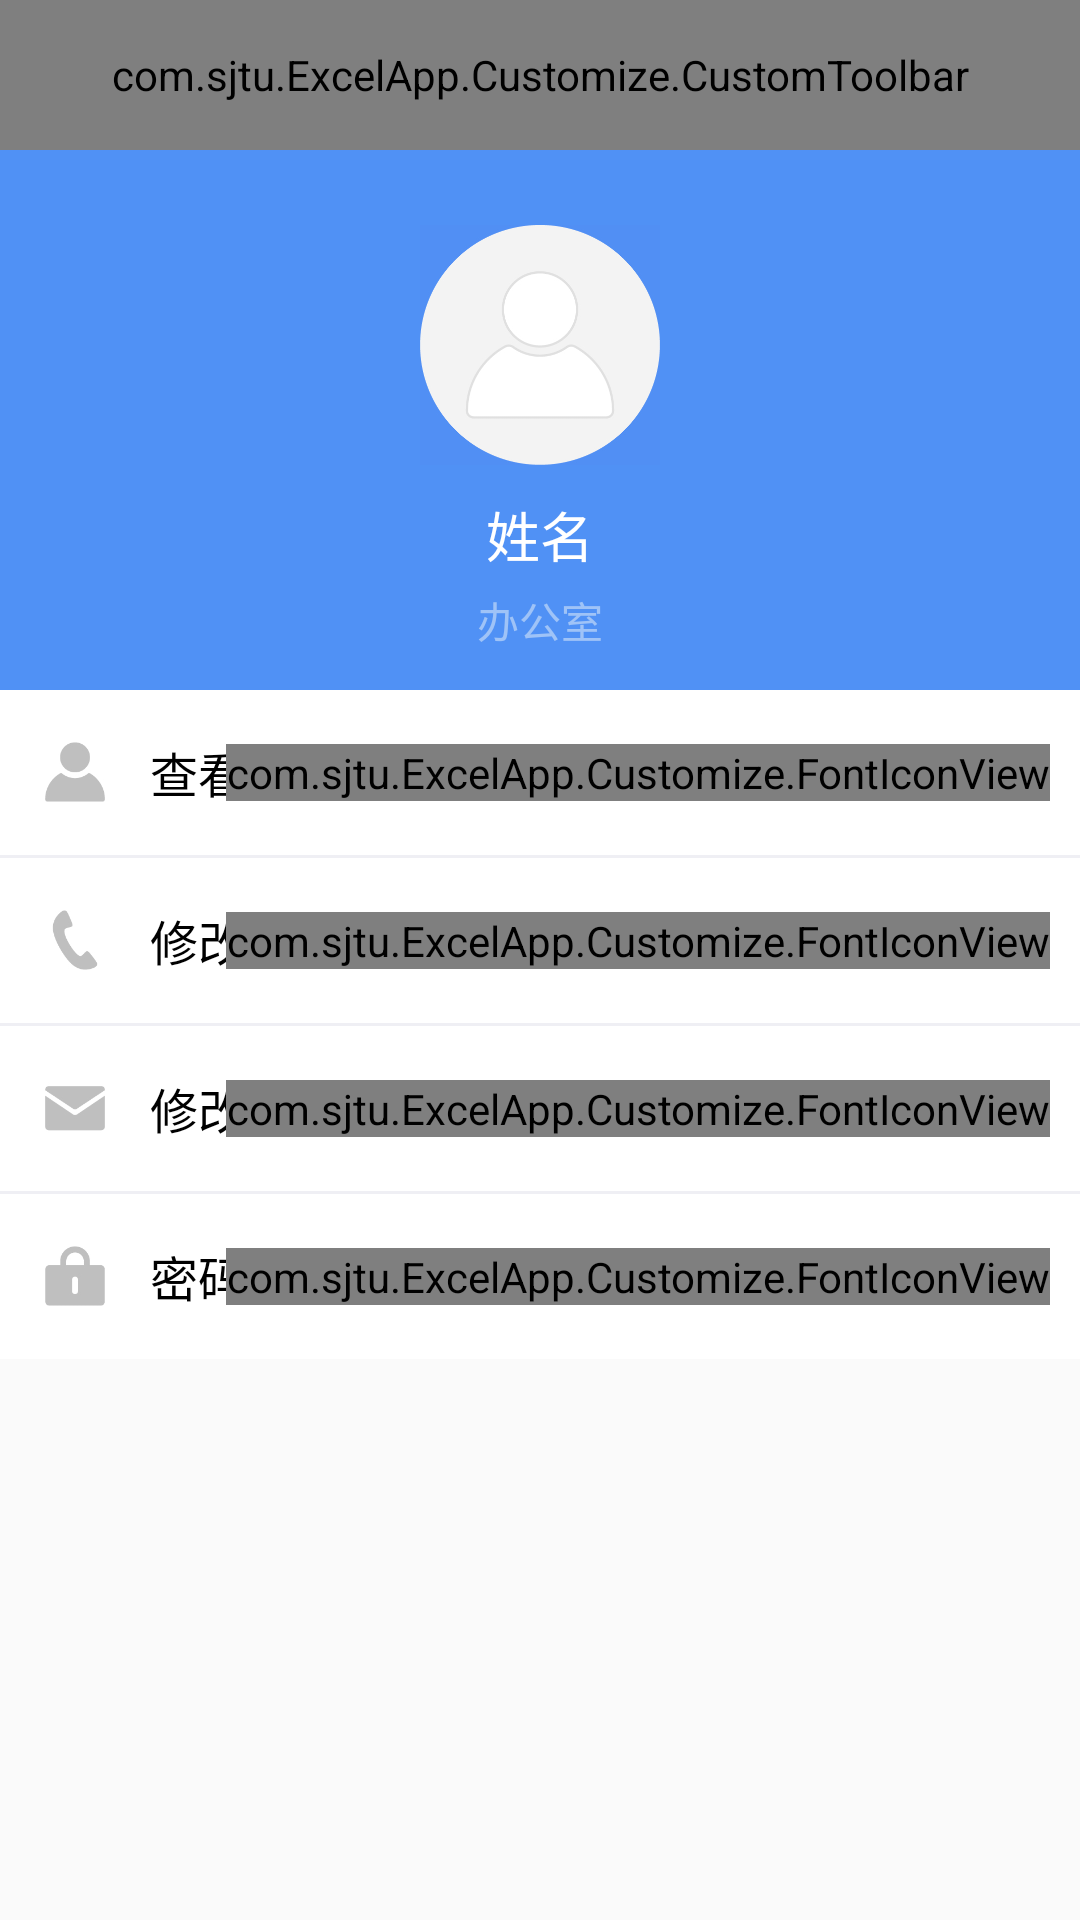

Screen size 1080*1920. Icon name, then its center in pixels as [x,y]:
email: [75,1108]
mobile: [75,940]
password: [75,1276]
profile round: [540,345]
